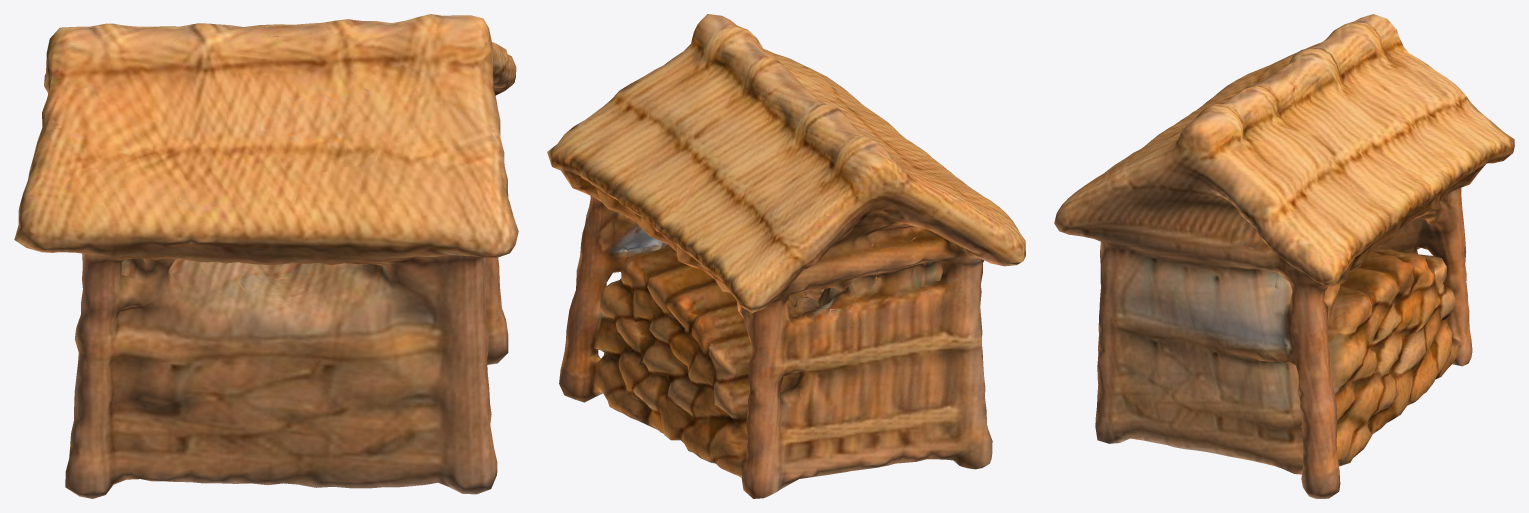
The model's file is firewood.glb.
3 renders of one model, left to right at view 1: azimuth 30°, elevation 25°; view 2: azimuth 150°, elevation 25°; view 3: azimuth 270°, elevation 25°, orthographic. The views are drawn at different scales.
Parts seen in each view (by area): view 1: world; view 2: world; view 3: world.
Part boxes in pixels (x1,y1,x2,y2): world: (14,14,518,498); world: (547,14,1025,498); world: (1054,14,1514,498).
Bounding box in the file's own units: 2.11 × 1.6 × 1.94.
Materials: 1 (1 with a texture image).
